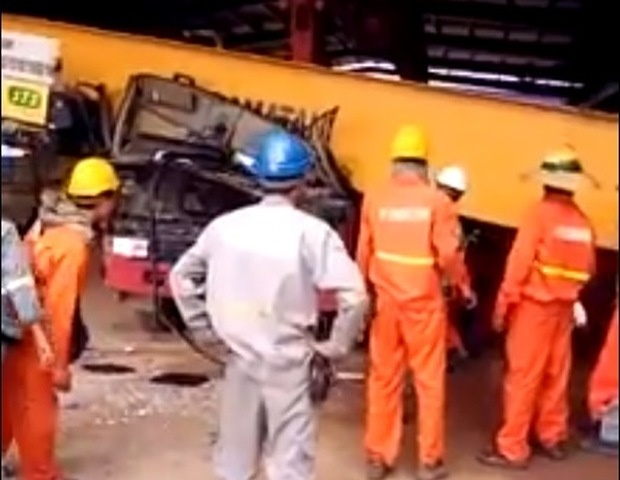blue: (252, 130, 312, 201)
white: (537, 150, 582, 198), (432, 164, 467, 201)
yellow: (67, 154, 121, 222), (389, 124, 428, 173)
